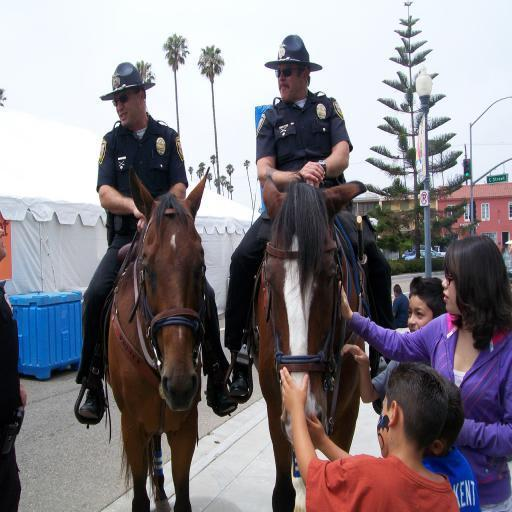horse: (256, 176, 370, 512), (104, 163, 212, 512)
